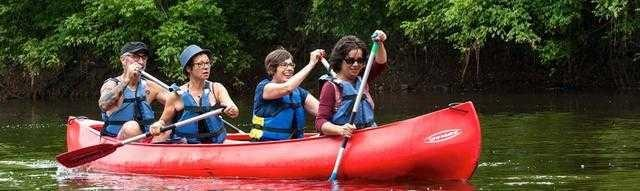kayak: (59, 100, 482, 185)
